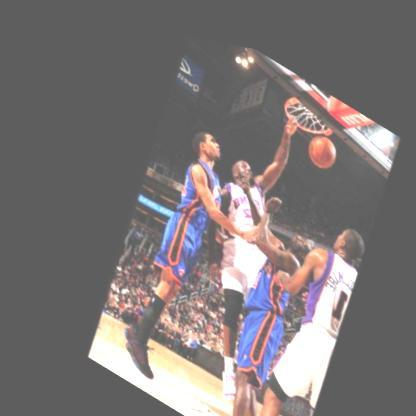basketball: (296, 115, 341, 165)
